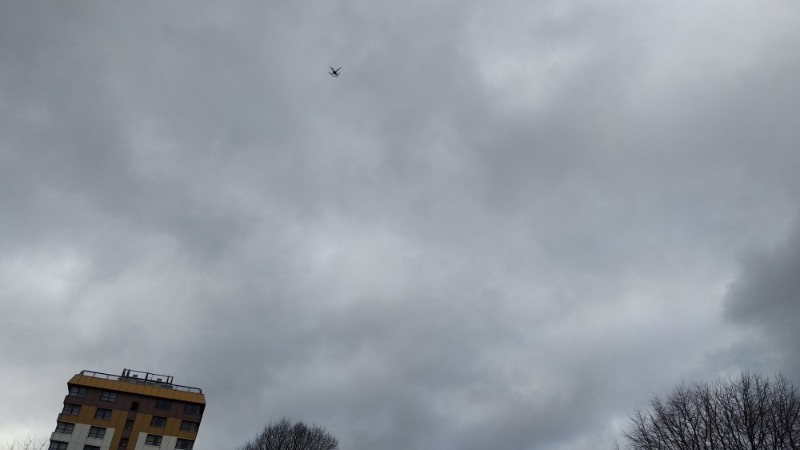drone: (328, 67, 342, 78)
